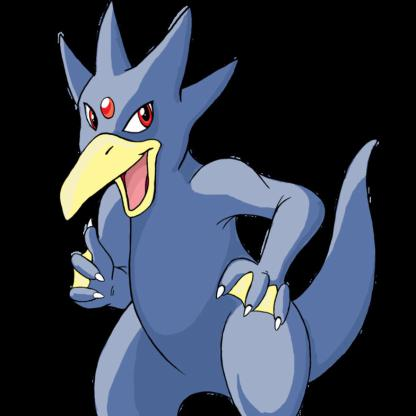Golduck: (46, 1, 393, 416)
